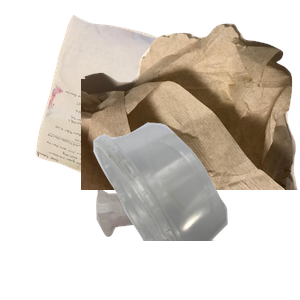glass: (94, 184, 253, 300)
paper: (33, 12, 214, 192)
plastic: (91, 120, 300, 300)
trash: (81, 21, 300, 201)
